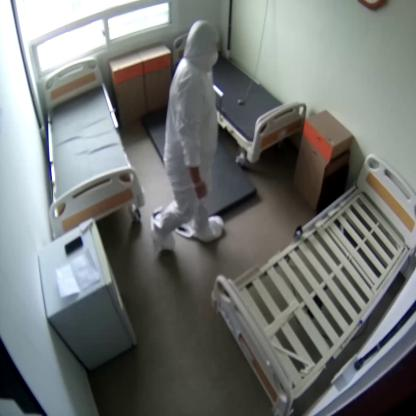Person: (151, 20, 225, 260)
